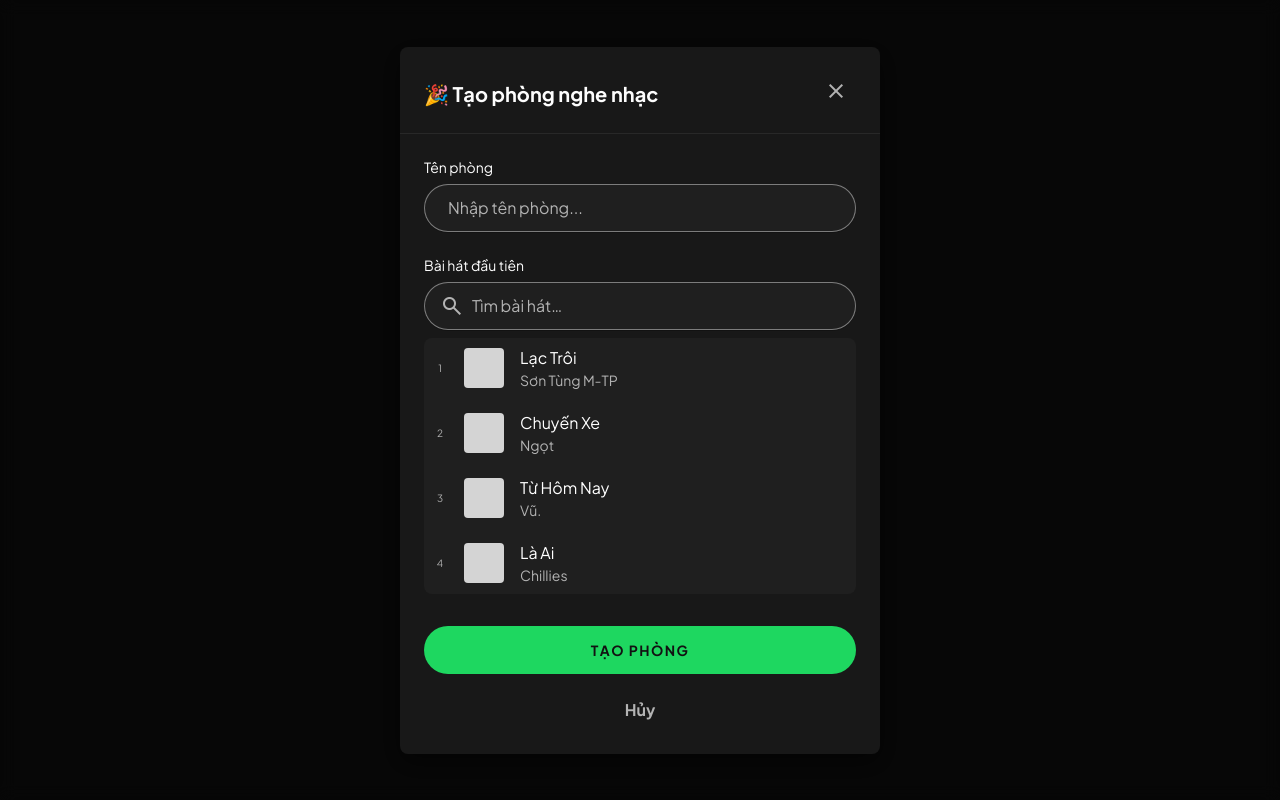
CreateRoomModal › Song search › shows search results (page 1) after typing
Check: the text "Lạc Trôi" is shown, box [520,346,577,368]
Type "Bài" into the field labelled "Tìm bài hát…". click: (640, 306)
box: [424,282,856,330]
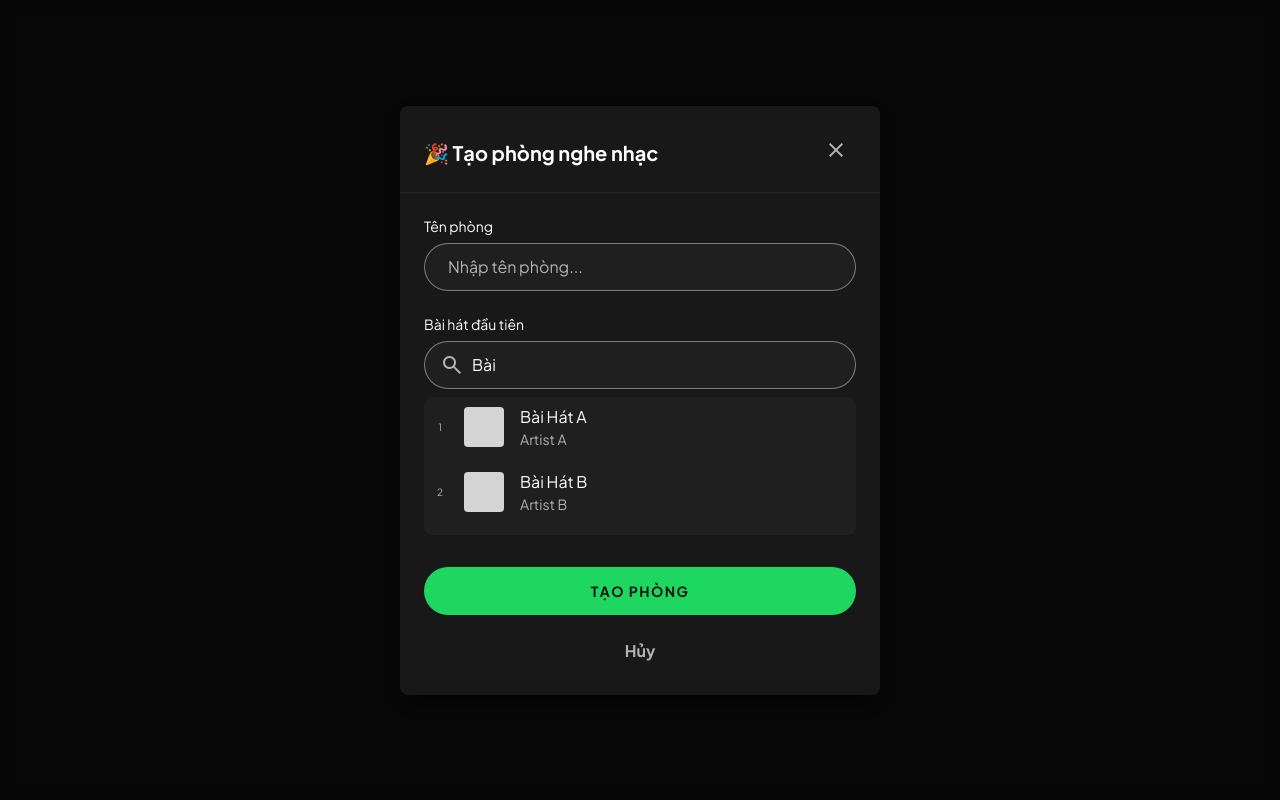
Check: the text "Bài Hát A" is shown, box [520,406,587,426]
Check: the text "Bài Hát B" is shown, box [520,470,587,492]
